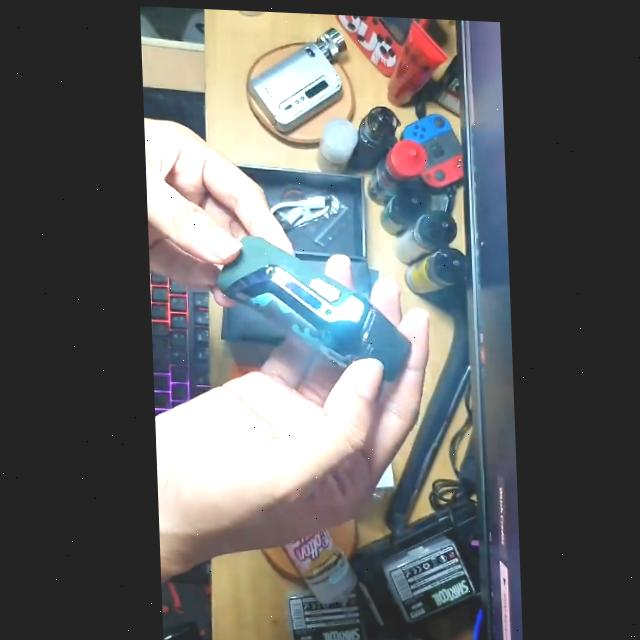vape: (216, 233, 412, 378), (244, 22, 350, 131)
